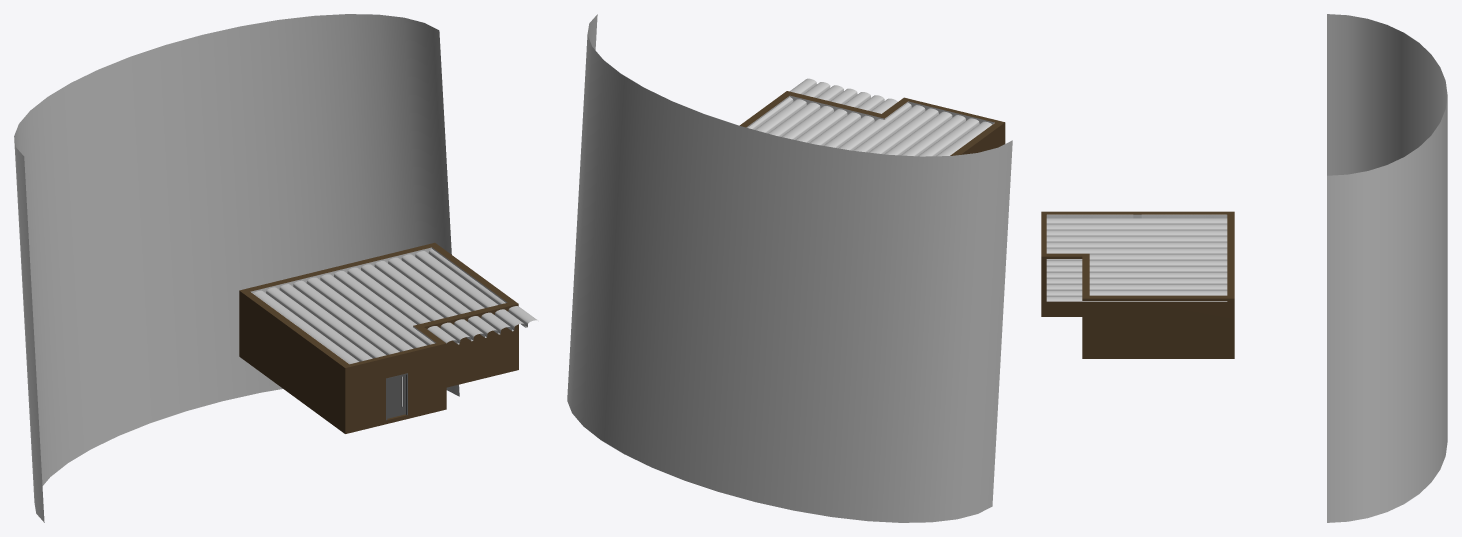
The model's file is HfK_Room.fbx.
The picture shows the model from 3 angles, left to right: view 1: azimuth 30°, elevation 25°; view 2: azimuth 150°, elevation 25°; view 3: azimuth 270°, elevation 25°; orthographic projection. The views are drawn at different scales.
Visible parts, largest first — view 1: Aussen_Plane, Raum, Decke, Tuer02; view 2: Aussen_Plane, Decke, Raum; view 3: Aussen_Plane, Decke, Raum, Wand1.
Boxes of the visible parts, <box> form: Aussen_Plane: <box>14,14,459,522</box>; Raum: <box>239,242,518,433</box>; Decke: <box>253,249,537,363</box>; Tuer02: <box>387,375,405,418</box>; Aussen_Plane: <box>567,14,1012,522</box>; Decke: <box>748,78,991,156</box>; Raum: <box>739,91,1005,155</box>; Aussen_Plane: <box>1327,14,1447,522</box>; Decke: <box>1046,218,1227,301</box>; Raum: <box>1041,211,1234,358</box>; Wand1: <box>1047,214,1226,218</box>.
Size of the model in its own units: 2345 by 2039 by 2080.
